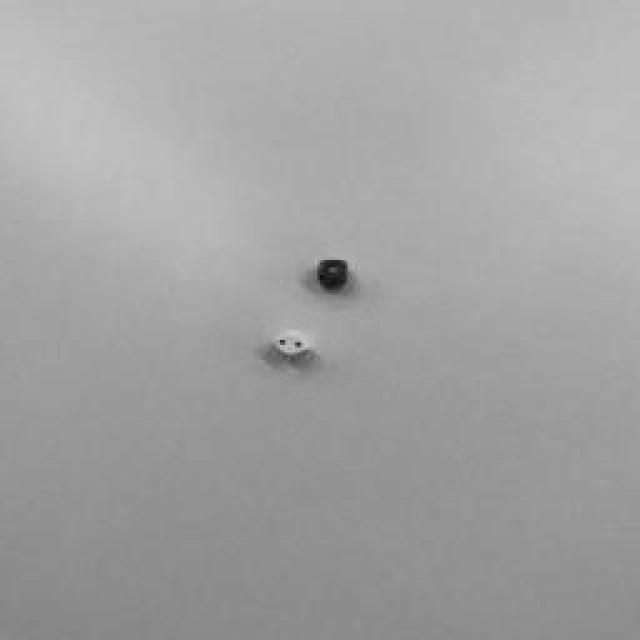dice_1: (319, 260, 346, 280)
dice_2: (274, 333, 306, 355)
